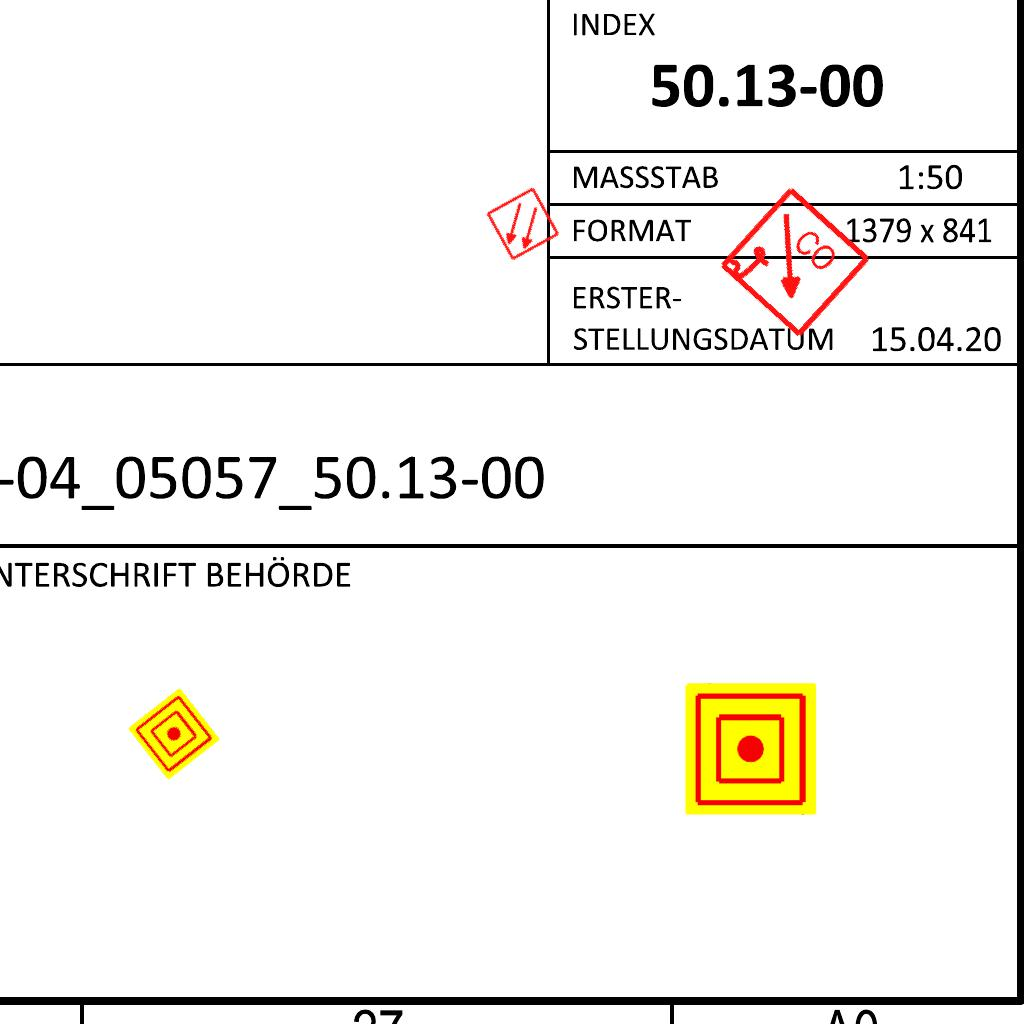NAM-Nichtautomatischer_Melder: (685, 683, 817, 815), (127, 687, 221, 781)
RMO_Rauchmelder_optischer: (484, 185, 562, 263)
ROA_Rauchmelder_optisch_mit_Signalgeber_(Sockelsirene): (714, 183, 875, 344)
